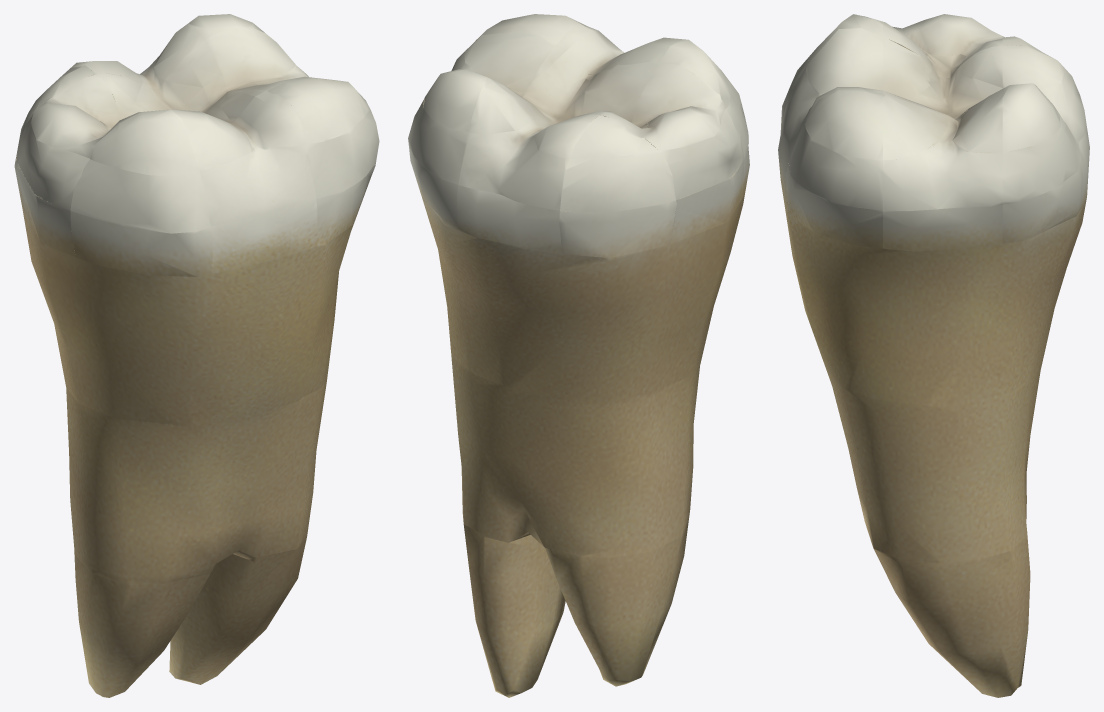
Rendered from Right_Lower_Wisdom.glb.
3 views of the same model, side by side, from view 1: azimuth 30°, elevation 25°; view 2: azimuth 150°, elevation 25°; view 3: azimuth 270°, elevation 25° (orthographic). The views are drawn at different scales.
Visible parts, largest first — view 1: Human_Teeth_Lower_Third_Molar.029; view 2: Human_Teeth_Lower_Third_Molar.029; view 3: Human_Teeth_Lower_Third_Molar.029.
Part boxes in pixels (x1,y1,x2,y2): Human_Teeth_Lower_Third_Molar.029: (14, 14, 379, 697); Human_Teeth_Lower_Third_Molar.029: (408, 14, 749, 697); Human_Teeth_Lower_Third_Molar.029: (778, 14, 1089, 697).
Bounding box in the file's own units: 1.52 × 3.02 × 1.37.
Materials: 30 (30 with a texture image).
